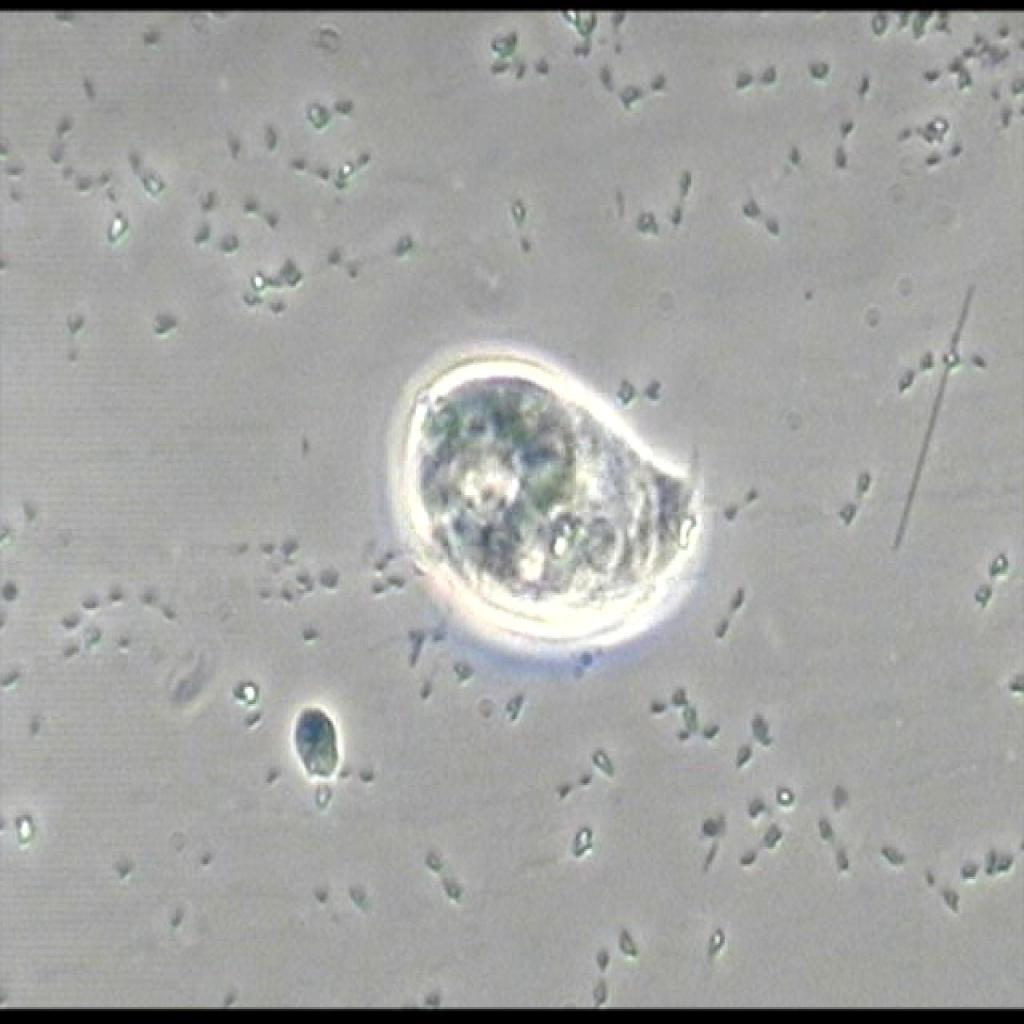Chilodonella: (354, 319, 746, 679)
